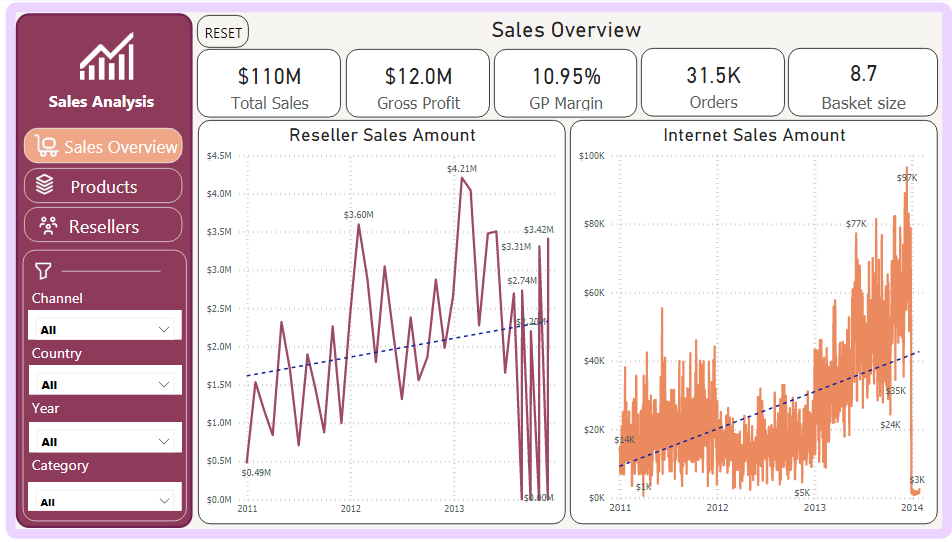

The page's visual inventory and layout, read from the dashboard file:
{"tool":"powerbi","page":{"name":"Sales Overview","canvas":[1280,720],"ordinal":0},"visuals":[{"type":"basicShape","title":"Shape","box":[10.5,0,1269.5,718.9],"z":0},{"type":"actionButton","box":[47.7,172,208.2,46.3],"z":0,"group":"g1"},{"type":"basicShape","title":"Shape","box":[34.7,14.5,237.1,689.6],"z":1000},{"type":"actionButton","box":[47.7,224,208.2,46.3],"z":1000,"group":"g1"},{"type":"actionButton","box":[47.7,276.1,208.2,46.3],"z":2000,"group":"g1"},{"type":"basicShape","box":[43.4,328.2,219.8,364.3],"z":2000},{"type":"image","box":[49.1,339.7,47.7,37.6],"z":3000,"group":"g1"},{"type":"textbox","box":[52,377.3,138.8,36.1],"z":3000},{"type":"image","box":[52,225.5,46.3,40.5],"z":4000,"group":"g1"},{"type":"slicer","fields":{"Values":["DimSalesTerritory.کشور"]},"box":[53.5,482.9,201,39],"z":4000},{"type":"image","box":[52,280.4,56.4,37.6],"z":5000,"group":"g1"},{"type":"slicer","fields":{"Values":["tbl_FactTotalSales.Channel"]},"box":[53,410.6,202,39],"z":5000},{"type":"image","box":[53.5,177.8,40.5,37.6],"z":6000,"group":"g1"},{"type":"slicer","fields":{"Values":["DimDate.Date.Variation.Date Hierarchy.Year"]},"box":[53.5,558.1,201,40.5],"z":6000},{"type":"actionButton","box":[47.7,172,208.2,46.3],"z":7000,"group":"g1"},{"type":"slicer","fields":{"Values":["DimProductSubcategory.EnglishProductSubcategoryName"]},"box":[53,637.6,202,37.6],"z":7000},{"type":"textbox","box":[52,597.1,127.2,40.5],"z":8000},{"type":"textbox","box":[52,521.9,138.8,34.7],"z":9000},{"type":"textbox","box":[52,449.6,138.8,34.7],"z":10000},{"type":"basicShape","box":[86.7,339.8,150.4,40.5],"z":11000},{"type":"textbox","box":[75.2,117.1,161.9,39],"z":12000},{"type":"image","box":[95.4,37.6,118.6,79.5],"z":13000},{"type":"card","title":"Total Sales","fields":{"Values":["Measurs.Basket size"]},"box":[1051.1,66.5,196.6,89.6],"z":14000},{"type":"textbox","title":"Sales Overview","box":[342.7,24.6,834.2,43.4],"z":15000},{"type":"actionButton","box":[274.7,23.1,68,43.4],"z":16000},{"type":"lineChart","title":"Internet Sales Amount","fields":{"Series":["tbl_FactTotalSales.Channel"],"Y":["Sum(tbl_FactTotalSales.SalesAmount)"],"Category":["tbl_FactTotalSales.OrderDate"]},"box":[764.8,161.9,482.9,530.6],"z":17000},{"type":"lineChart","title":"Reseller Sales Amount","fields":{"Series":["tbl_FactTotalSales.Channel"],"Y":["Sum(tbl_FactTotalSales.SalesAmount)"],"Category":["tbl_FactTotalSales.OrderDate"]},"box":[276.1,161.9,482.9,530.6],"z":18000},{"type":"card","title":"Total Sales","fields":{"Values":["Measurs.Order"]},"box":[857.3,66.5,189.4,89.6],"z":19000},{"type":"card","title":"Total Sales","fields":{"Values":["Measurs.Gross Profit Margin"]},"box":[665.1,68,188,89.6],"z":20000},{"type":"card","title":"Total Sales","fields":{"Values":["Measurs.Gross Profit"]},"box":[469.9,68,189.4,89.6],"z":21000},{"type":"card","title":"Total Sales","fields":{"Values":["Measurs.Total Sales"]},"box":[274.7,68,189.4,89.6],"z":22000},{"type":"group","id":"g1","title":"Group 1","box":[47.7,172,208.2,205.3],"z":23000},{"type":"image","box":[46.1,172.4,61.4,46.1],"z":24000}]}

Visuals, with their boxes in screenshot pixels (x1, y1, x2, y2), scaled from the page's 1280x720 canvas onto the 952x542 screenshot:
"Shape" basicShape: [8, 0, 951, 541]
actionButton: [35, 129, 190, 164]
"Shape" basicShape: [26, 11, 202, 530]
actionButton: [35, 169, 190, 203]
actionButton: [35, 208, 190, 243]
basicShape: [32, 247, 196, 521]
image: [37, 256, 72, 284]
textbox: [39, 284, 142, 311]
image: [39, 170, 73, 200]
slicer - DimSalesTerritory.کشور: [40, 364, 189, 393]
image: [39, 211, 81, 239]
slicer - tbl_FactTotalSales.Channel: [39, 309, 190, 338]
image: [40, 134, 70, 162]
slicer - DimDate.Date.Variation.Date Hierarchy.Year: [40, 420, 189, 451]
actionButton: [35, 129, 190, 164]
slicer - DimProductSubcategory.EnglishProductSubcategoryName: [39, 480, 190, 508]
textbox: [39, 449, 133, 480]
textbox: [39, 393, 142, 419]
textbox: [39, 338, 142, 365]
basicShape: [64, 256, 176, 286]
textbox: [56, 88, 176, 118]
image: [71, 28, 159, 88]
"Total Sales" card: [782, 50, 928, 118]
"Sales Overview" textbox: [255, 19, 875, 51]
actionButton: [204, 17, 255, 50]
"Internet Sales Amount" lineChart: [569, 122, 928, 521]
"Reseller Sales Amount" lineChart: [205, 122, 565, 521]
"Total Sales" card: [638, 50, 778, 118]
"Total Sales" card: [495, 51, 634, 119]
"Total Sales" card: [349, 51, 490, 119]
"Total Sales" card: [204, 51, 345, 119]
"Group 1" group: [35, 129, 190, 284]
image: [34, 130, 80, 164]
